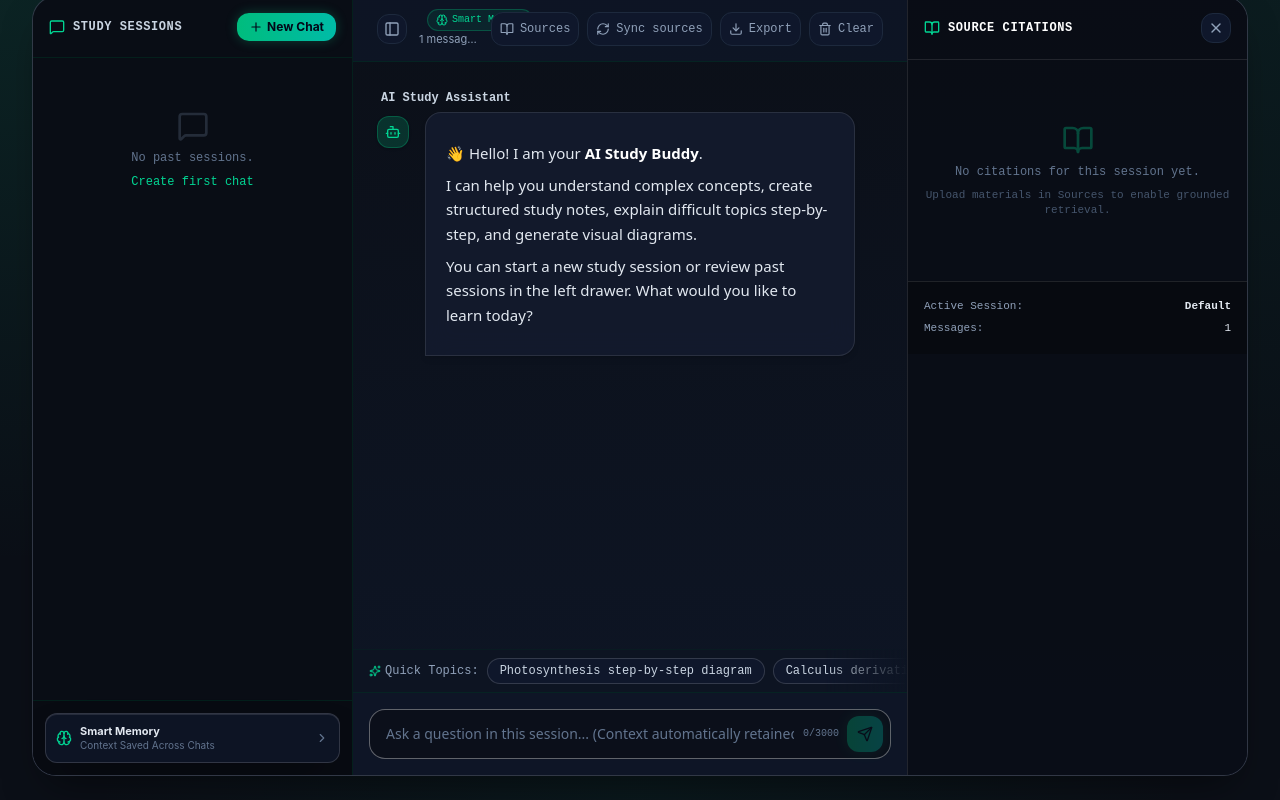
it: ChatInterface Real Component Regression Suite › Test 5: Failed clear preserves pending messages and allows sending to continue
The width and height of the screenshot is (1280, 800).
(page scrolled)
Expected: the text "AI Study Buddy" is shown, [585,143,699,163]
Note: Send in-flight message
Step 1. Replace the text in the field with placeholder "Ask a question" with "Question during clear failure" → (630, 734), box [369,709,891,759]
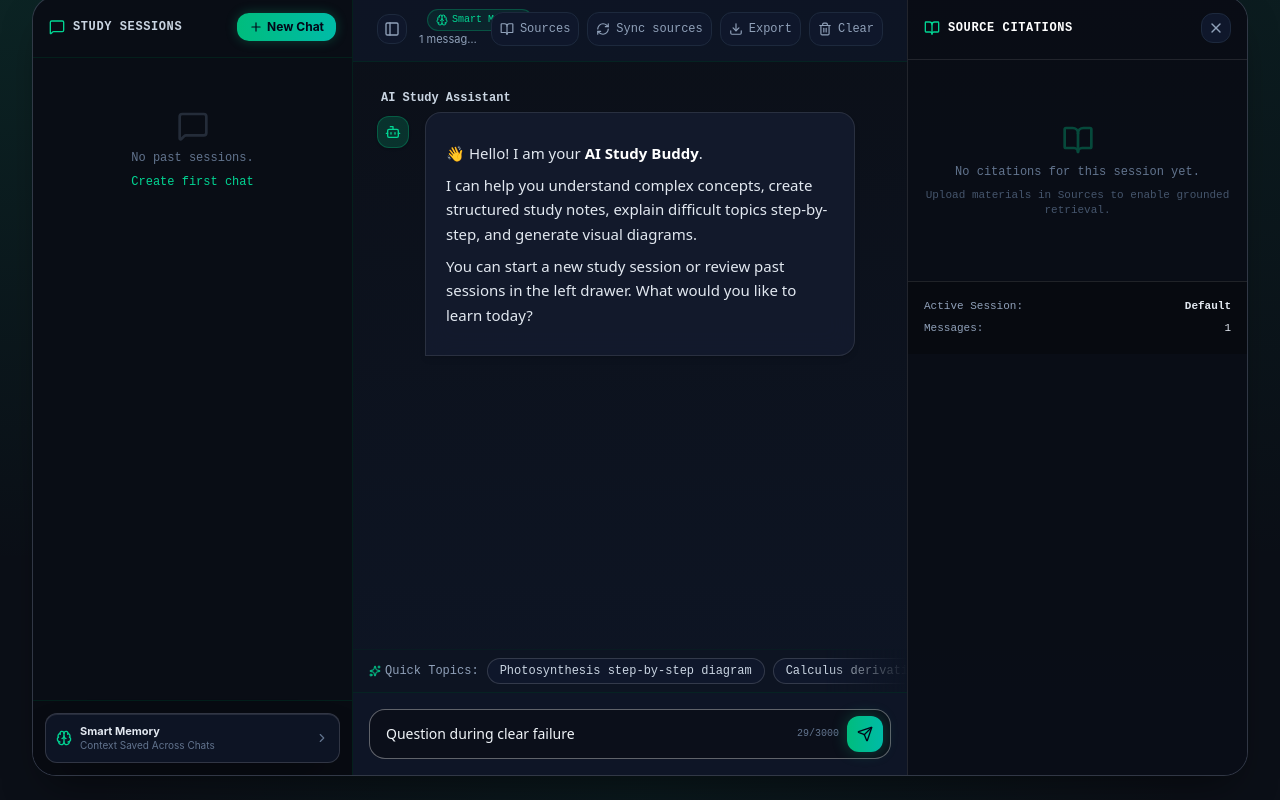
Step 2. Submit the form with placeholder "Ask a question", box [369,709,891,759]
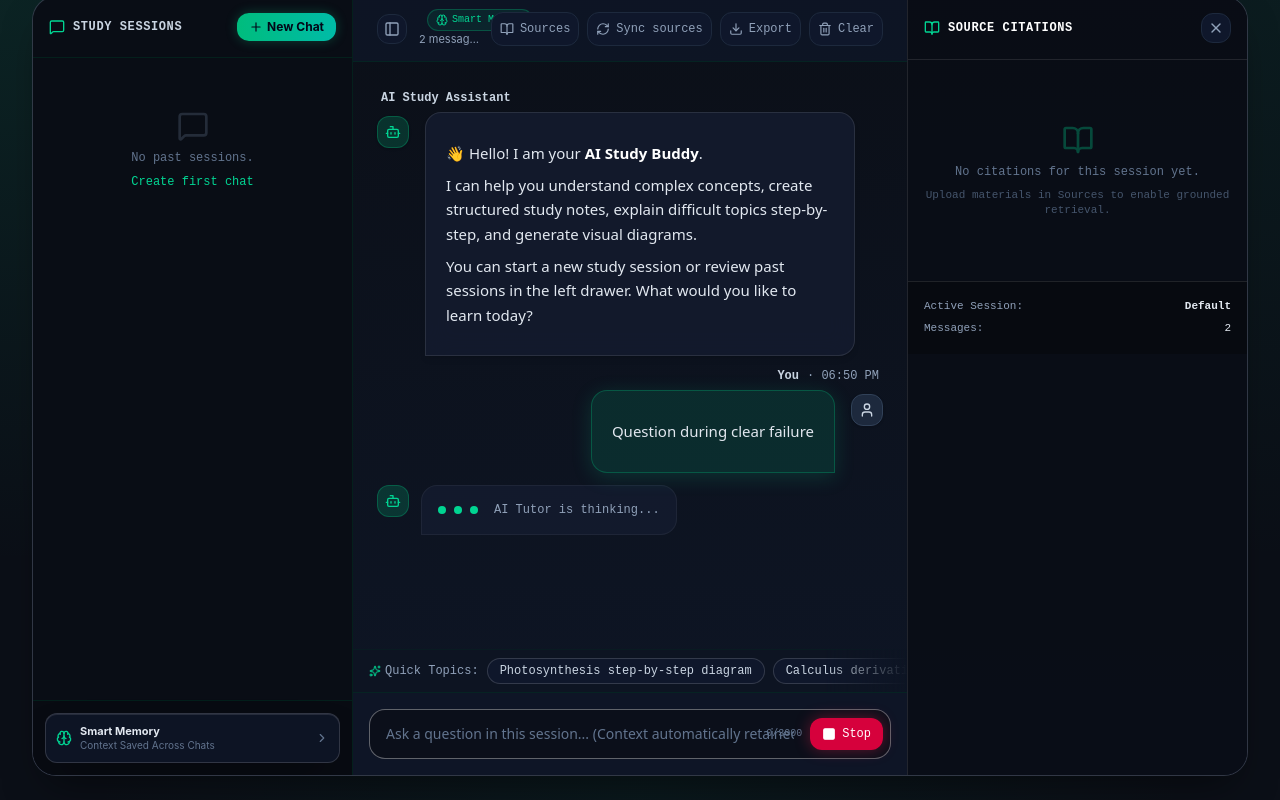
Expected: the text "Question during clear failure" is shown, [612,419,814,444]
Note: Trigger Clear button while send is in flight
Step 3. Click the button titled "Clear conversation history in this session" → (846, 29), box [809,12,883,46]
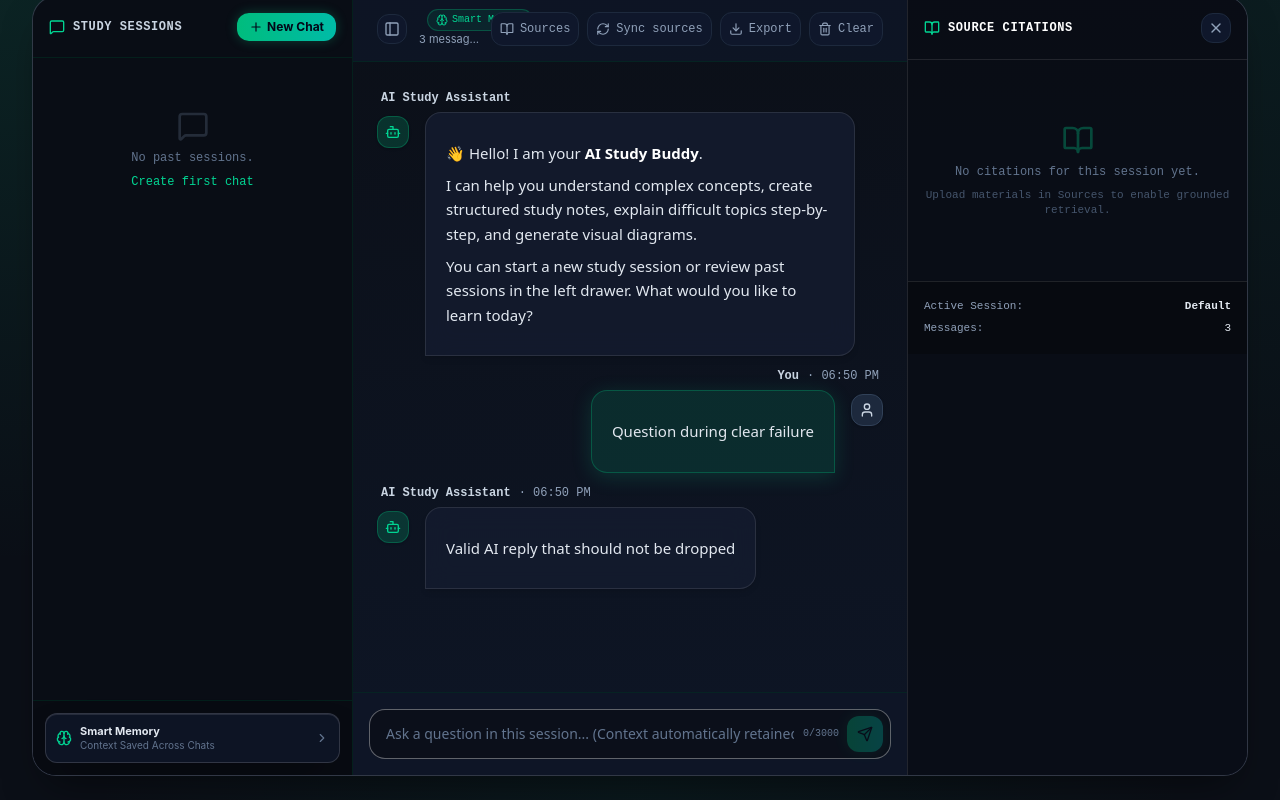
Expected: the text "Question during clear failure" is shown, [612,419,814,444]
Expected: the text "Valid AI reply that should not be dropped" is shown, [446,536,735,560]
